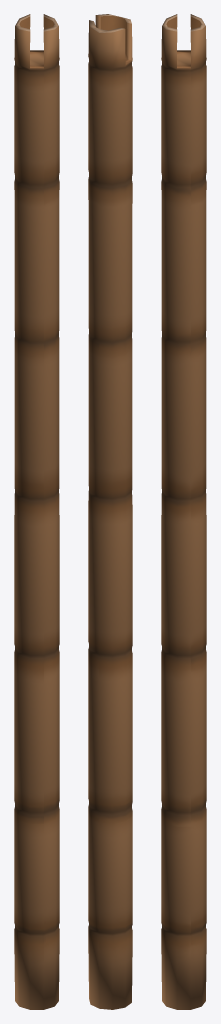
Rendered from taquaraBambu.fbx.
The picture shows the model from 3 angles, left to right: view 1: azimuth 90°, elevation 25°; view 2: azimuth 150°, elevation 25°; view 3: azimuth 270°, elevation 25°; orthographic projection.
Parts seen in each view (by area): view 1: Cylinder; view 2: Cylinder; view 3: Cylinder.
Boxes of the visible parts, box(x1,y1,x2,y2) form: Cylinder: box(14, 14, 59, 1009); Cylinder: box(88, 14, 132, 1009); Cylinder: box(161, 14, 206, 1009).
Size of the model in its own units: 198 by 4921 by 208.
